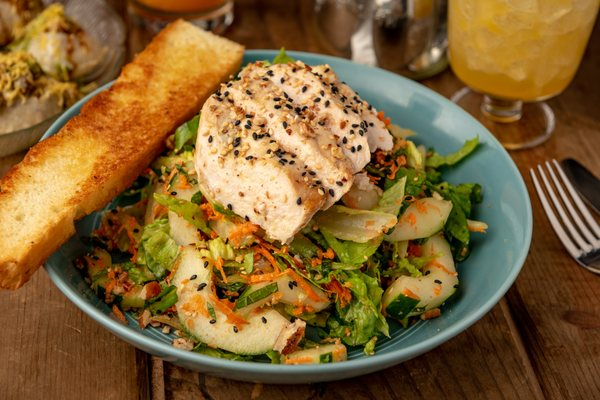burger: (529, 156, 600, 276)
pizza: (448, 0, 599, 152), (370, 0, 450, 79), (126, 0, 234, 39)
soup: (0, 15, 248, 293), (195, 59, 394, 247)
sushi: (13, 48, 534, 388)
